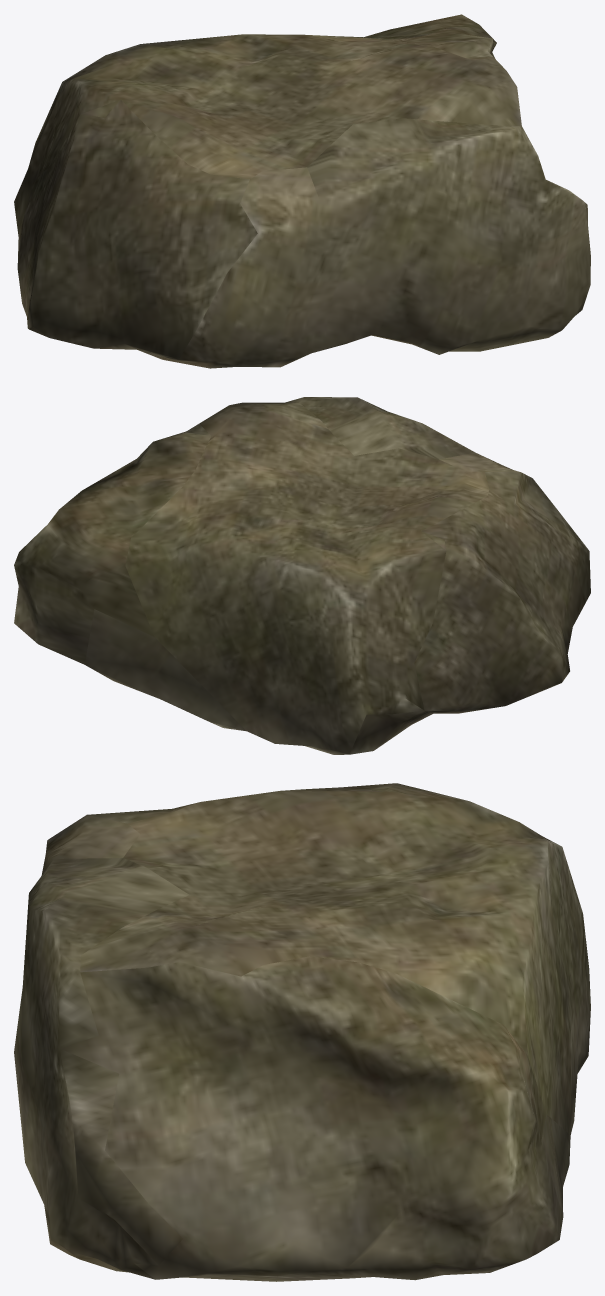
Rendered from mossy_rock_b_7.glb.
3 views of the same model, one above another, from view 1: azimuth 30°, elevation 25°; view 2: azimuth 150°, elevation 25°; view 3: azimuth 270°, elevation 25° (orthographic). The views are drawn at different scales.
Parts seen in each view (by area): view 1: rock_moss_set_02_rock07; view 2: rock_moss_set_02_rock07; view 3: rock_moss_set_02_rock07.
Part boxes in pixels (x1=…): rock_moss_set_02_rock07: x1=14, y1=14, x2=590, y2=368; rock_moss_set_02_rock07: x1=14, y1=397, x2=590, y2=754; rock_moss_set_02_rock07: x1=14, y1=783, x2=590, y2=1281.
Bounding box in the file's own units: 1.69 × 0.7488 × 1.21.
1 material, 1 textured.
